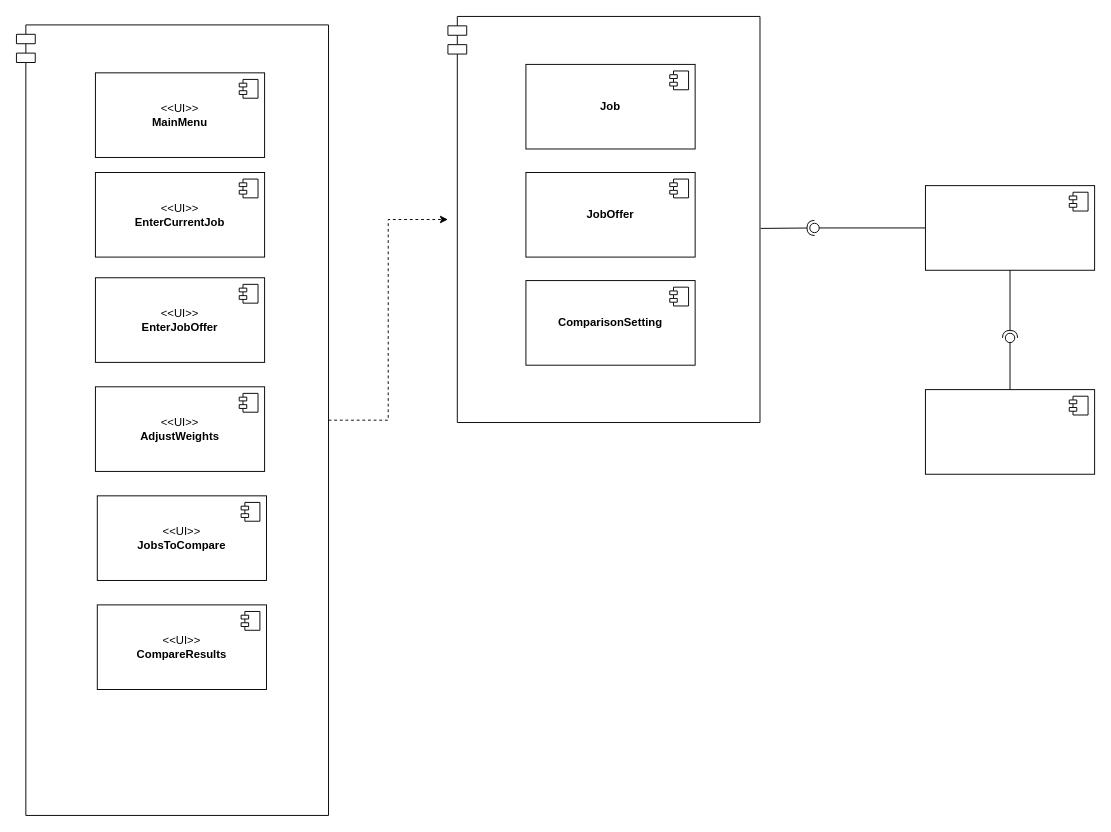
Some shapes in this 1111 by 832 pixel diagram are drawn without their labels. Each missing label, with the box of its shape:
Model: (447, 16, 760, 423)
View: (16, 24, 329, 815)
«database» JobsDB: (924, 389, 1095, 474)
«infrastructure» Persistence: (924, 185, 1095, 270)
